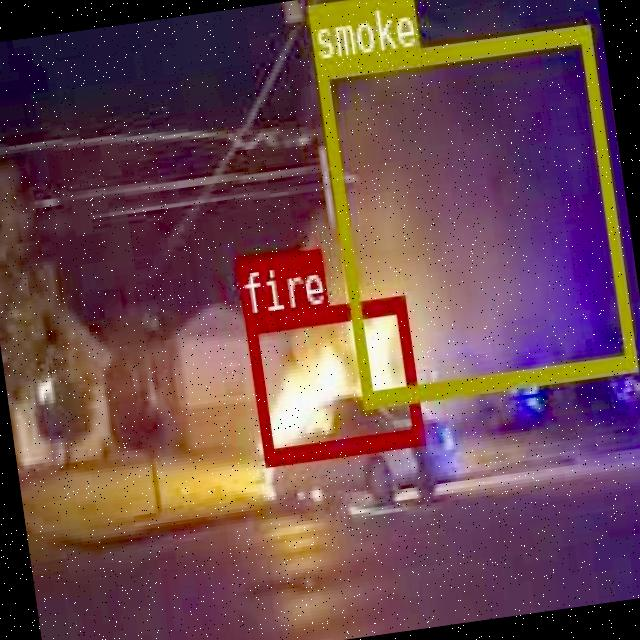fire: (242, 295, 423, 464)
smoke: (314, 23, 636, 405)
